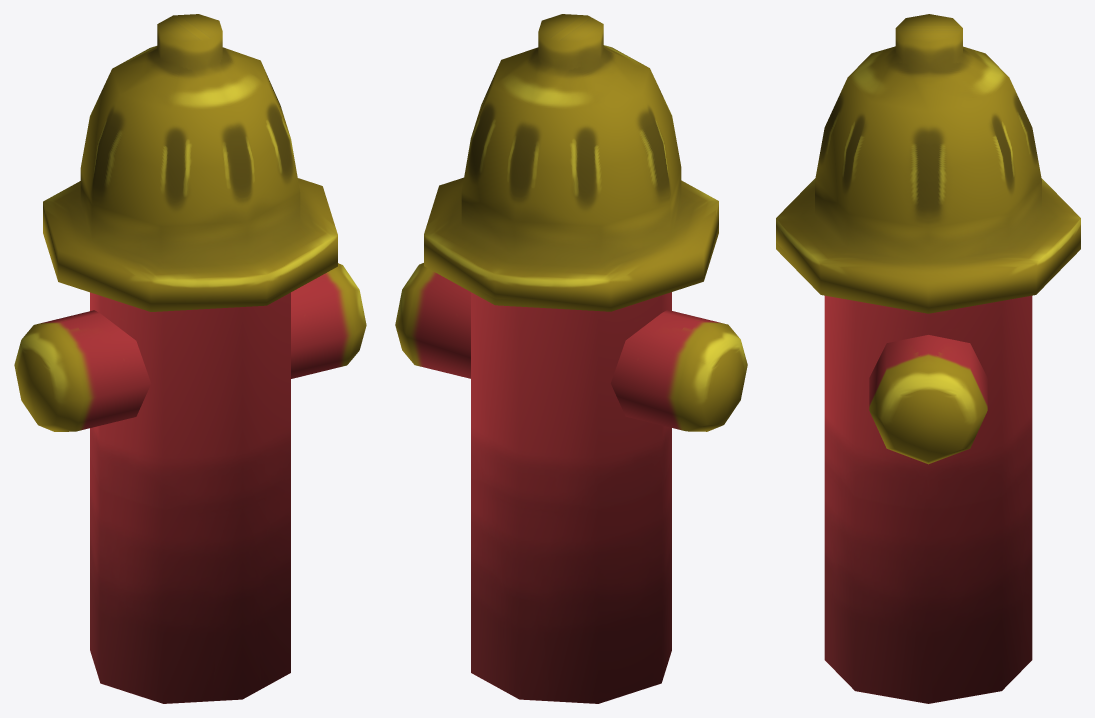
The model's file is Grifo.fbx.
The picture shows the model from 3 angles, left to right: view 1: azimuth 30°, elevation 25°; view 2: azimuth 150°, elevation 25°; view 3: azimuth 270°, elevation 25°; orthographic projection.
Visible parts, largest first — view 1: Grifo; view 2: Grifo; view 3: Grifo.
Part boxes in pixels (x1,y1,x2,y2): Grifo: (14, 14, 366, 703); Grifo: (395, 14, 747, 703); Grifo: (776, 14, 1080, 703).
Size of the model in its own units: 121 by 226 by 98.9.
